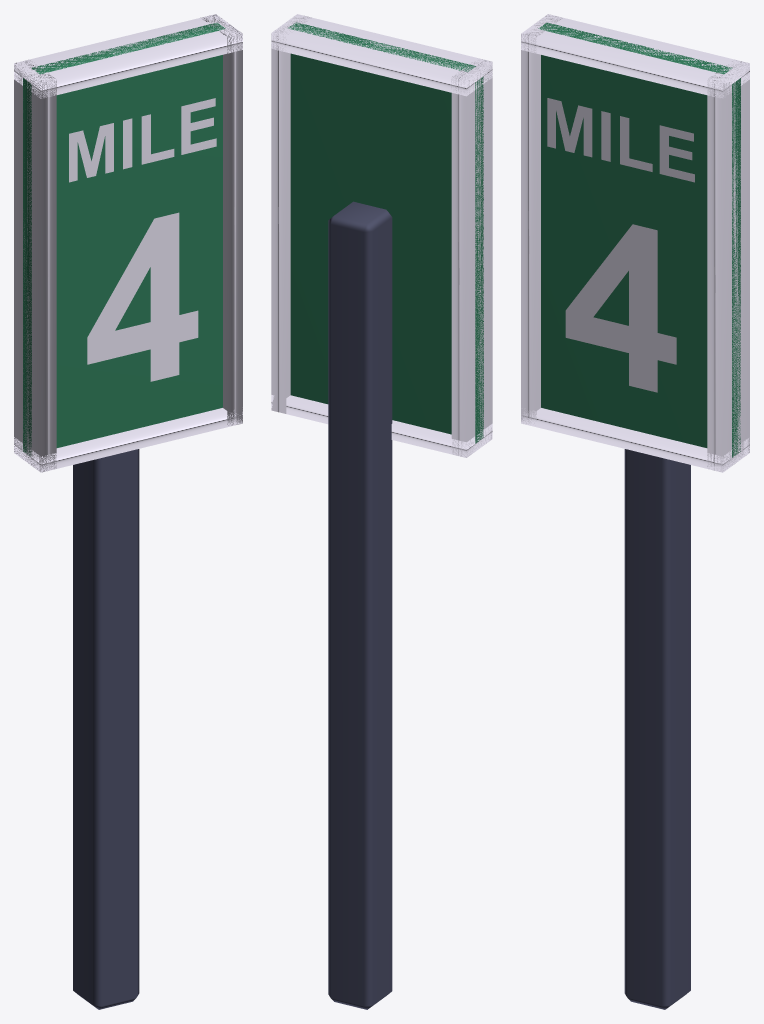
File: mile_marker.glb
3 renders of one model, left to right at view 1: azimuth 30°, elevation 25°; view 2: azimuth 150°, elevation 25°; view 3: azimuth 330°, elevation 25°, orthographic. The views are drawn at different scales.
Parts seen in each view (by area): view 1: Post; view 2: Post; view 3: Post.
Part boxes in pixels (x1,y1,x2,y2): Post: (14,14,242,1009); Post: (271,14,492,1009); Post: (521,14,749,1009).
Size of the model in its own units: 0.26 by 1.19 by 0.112.
